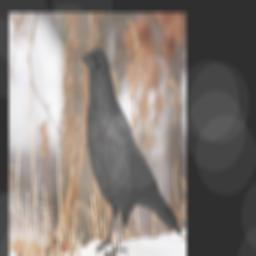Crow: (79, 43, 183, 256)
